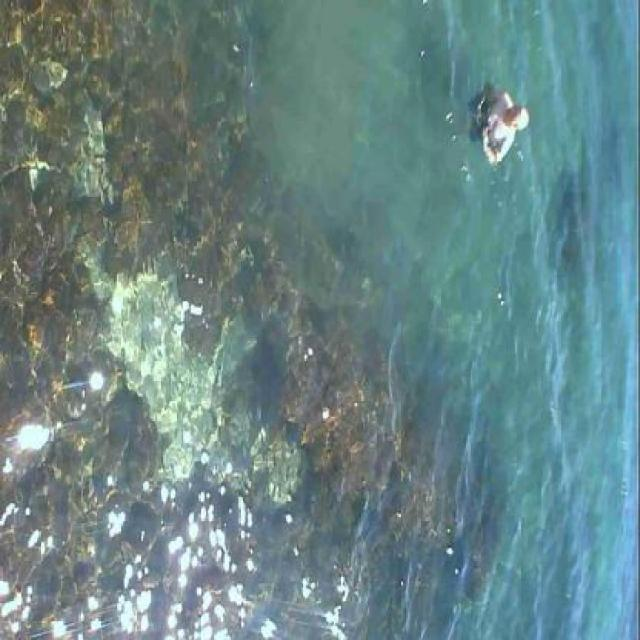swimming: (462, 75, 531, 157)
